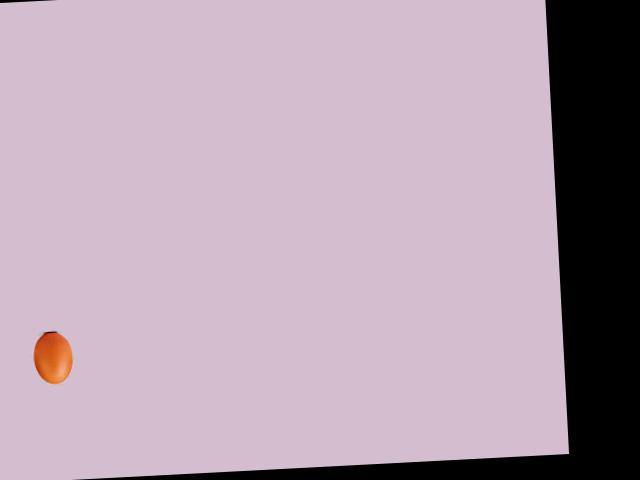egg: (32, 330, 73, 385)
